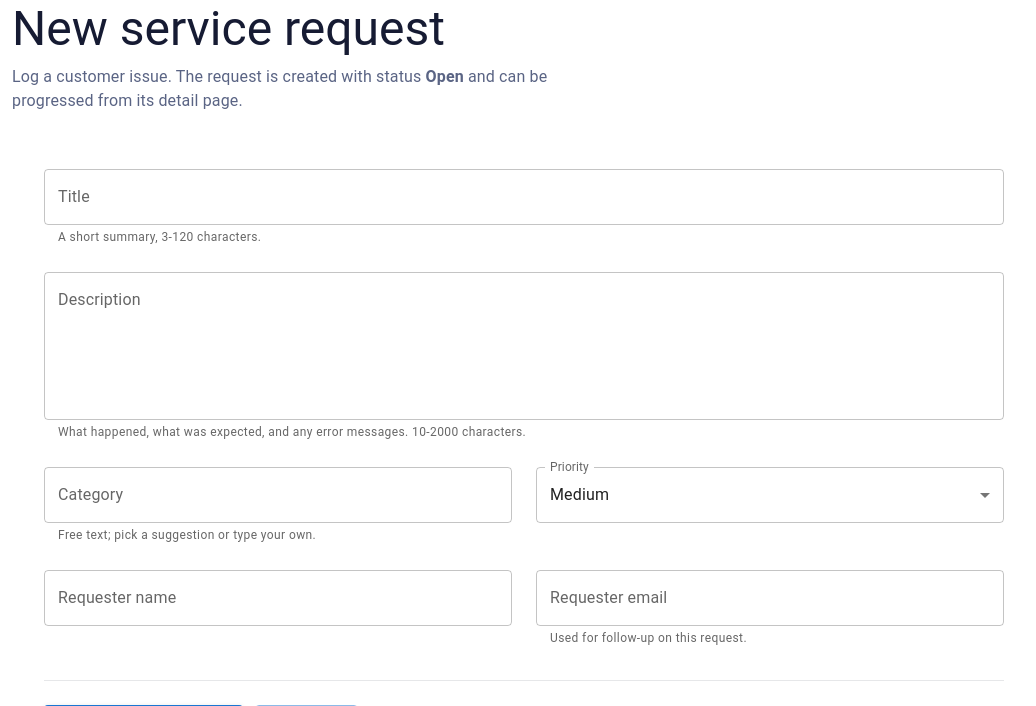
Test case: NewRequestPage › maps server-side 422 messages back onto the matching fields
Type "Printer offline in the Porto branch" into the field labelled "Title" at (524, 197), box x1=44 y1=169 x2=1004 y2=225
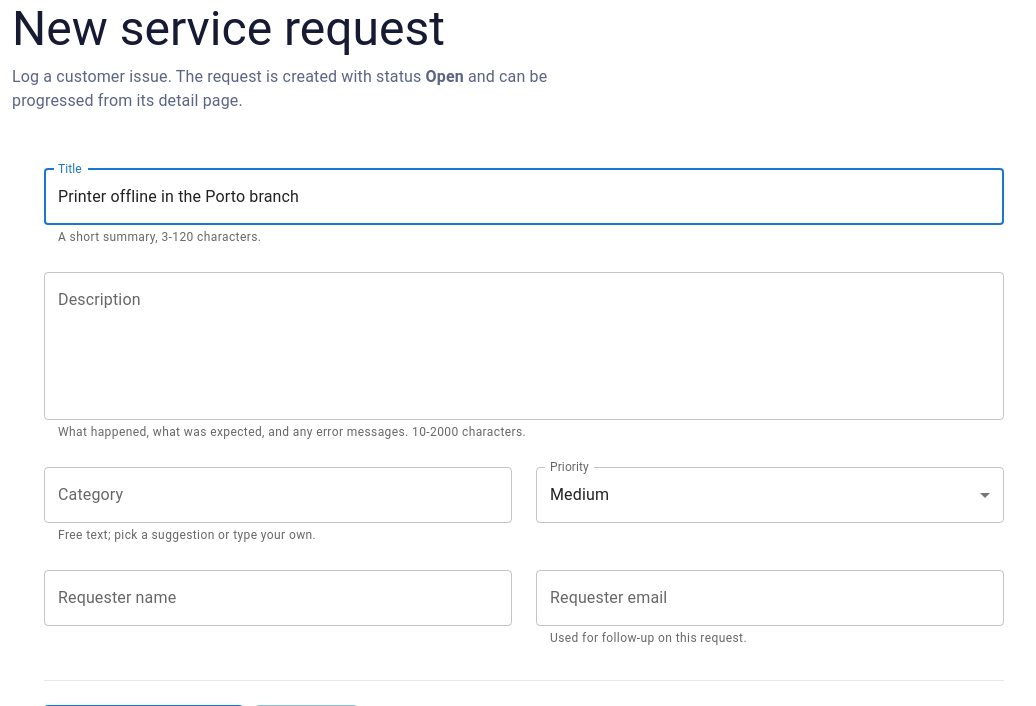
Type "Every print job queued since this morning stays pending and never prints." into the text box labelled "Description" at (524, 346), box x1=58 y1=288 x2=990 y2=403
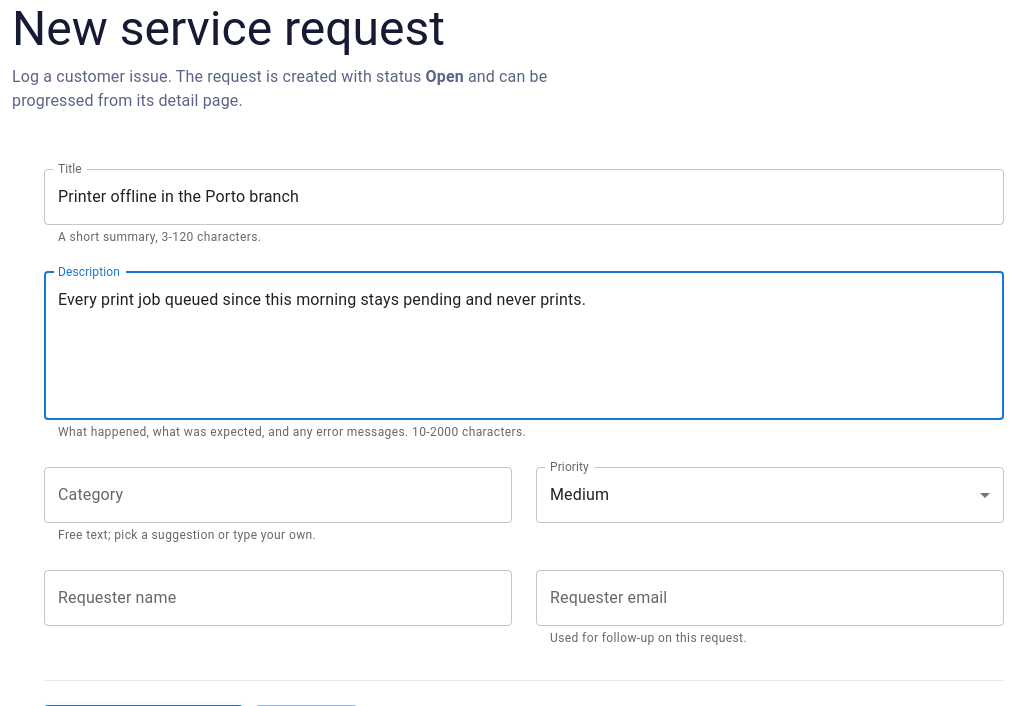
Type "Hardware" into the field labelled "Category" at (278, 495), box x1=44 y1=467 x2=512 y2=523
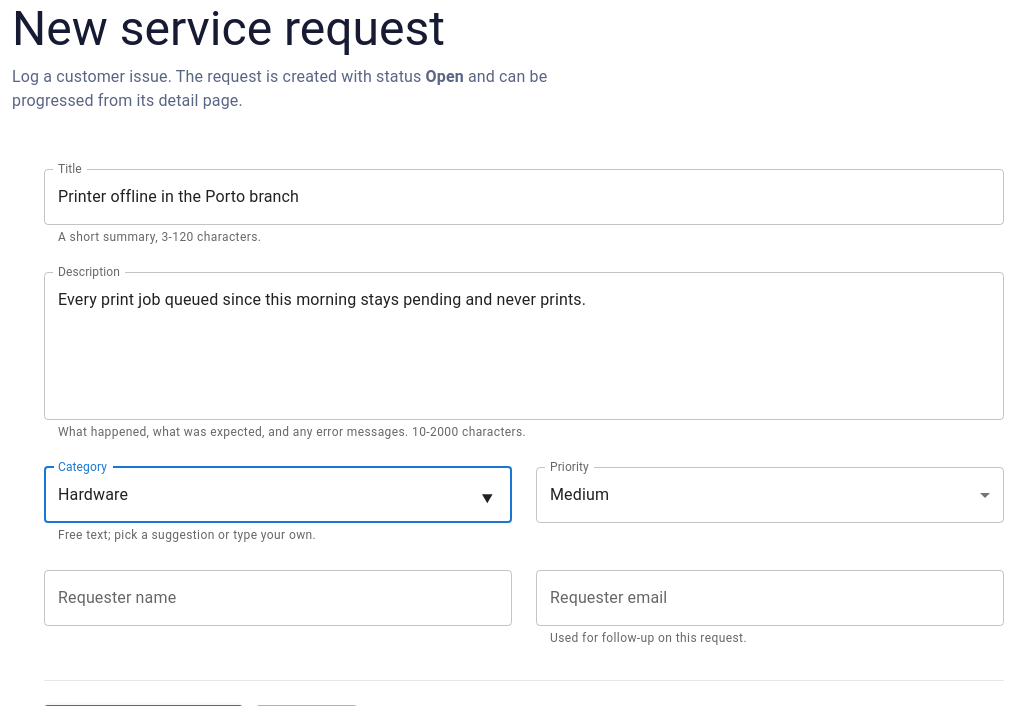
Type "Rui Marques" into the field labelled "Requester name" at (278, 598), box x1=44 y1=570 x2=512 y2=626
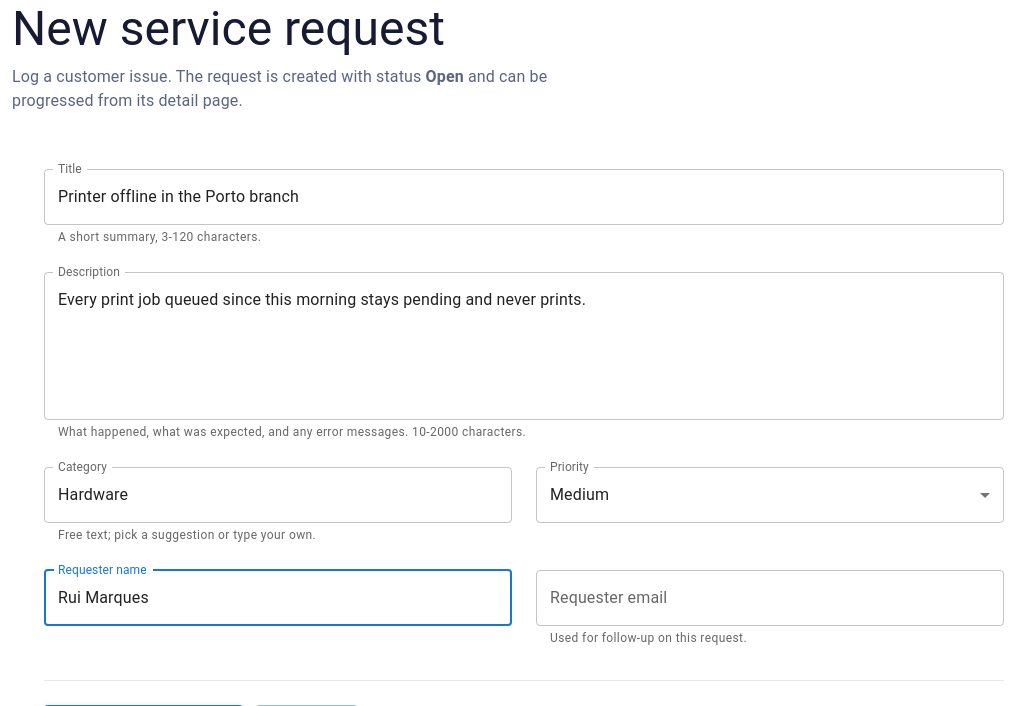
Type "rui.marques@example.com" into the field labelled "Requester email" at (770, 598), box x1=536 y1=570 x2=1004 y2=626
(page scrolled)
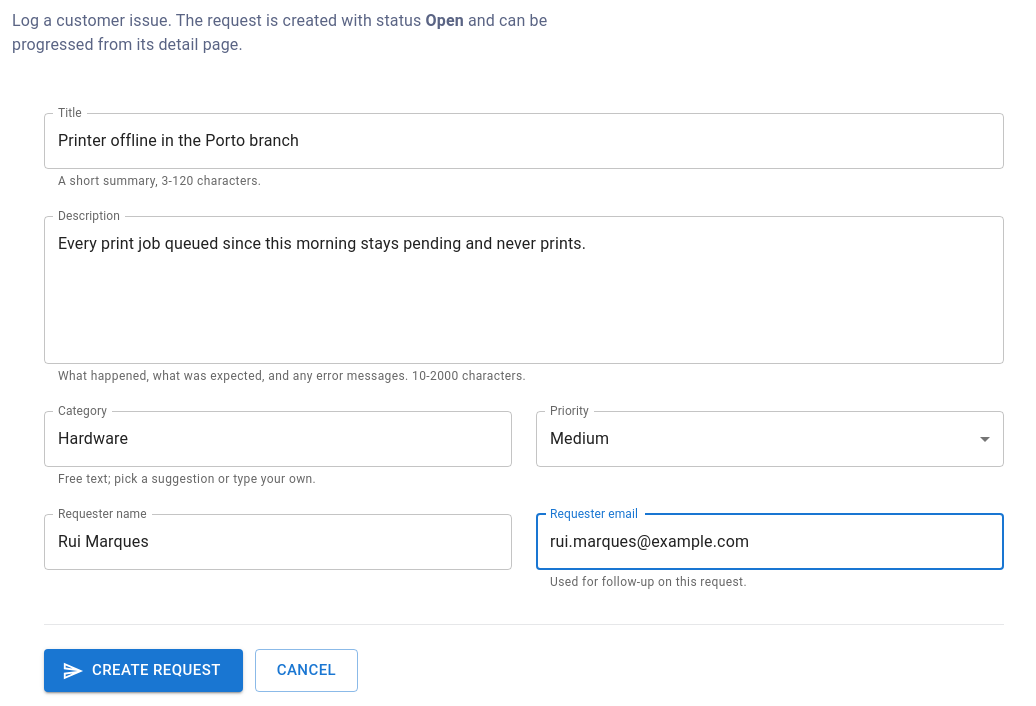
Click the button "Create request" at (143, 671), box x1=44 y1=649 x2=243 y2=692
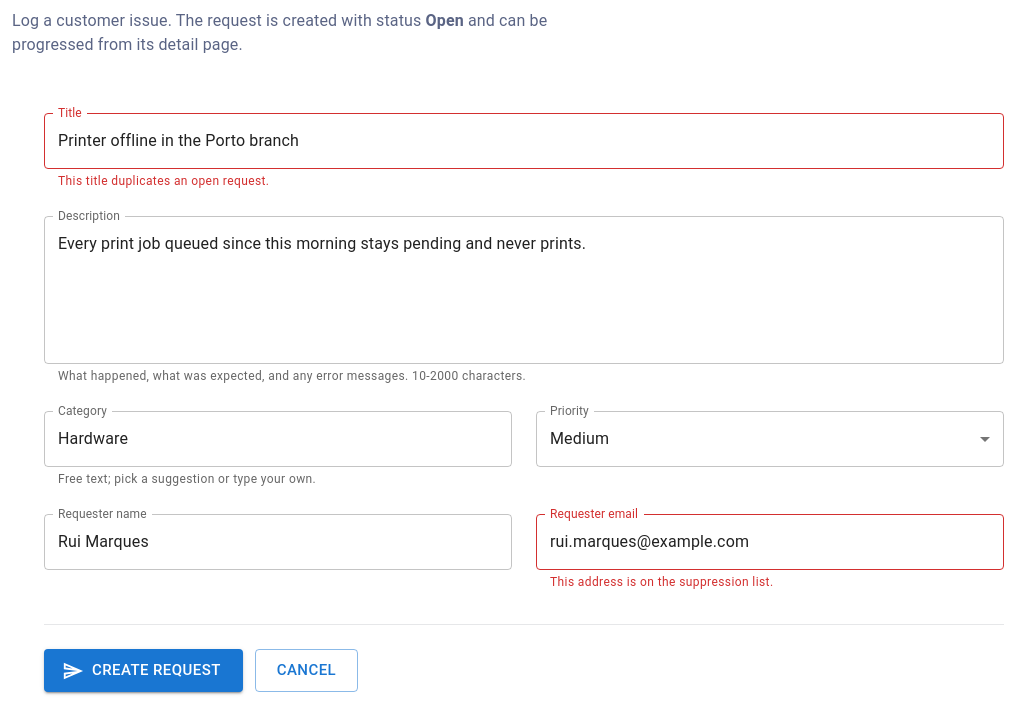
Result: the text "This title duplicates an open request." is shown at x1=58 y1=174 x2=269 y2=188
Result: the text "This address is on the suppression list." is shown at x1=550 y1=574 x2=774 y2=588
